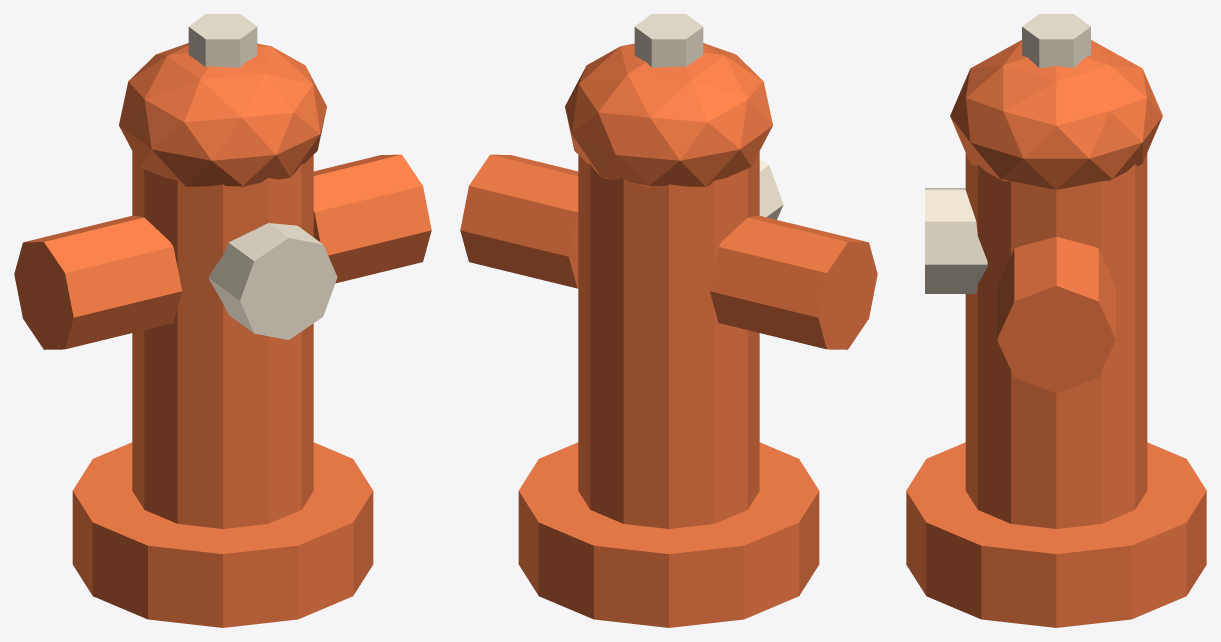
The model's file is hydrant.glb.
3 renders of one model, left to right at view 1: azimuth 30°, elevation 25°; view 2: azimuth 150°, elevation 25°; view 3: azimuth 270°, elevation 25°, orthographic.
Parts seen in each view (by area): view 1: hydrant__Barrel, hydrant__Foot, hydrant__Cap, hydrant__Outlet, hydrant__Outlet.001, hydrant__Front cap, hydrant__Top nut; view 2: hydrant__Barrel, hydrant__Foot, hydrant__Cap, hydrant__Outlet, hydrant__Outlet.001, hydrant__Top nut, hydrant__Front cap; view 3: hydrant__Barrel, hydrant__Foot, hydrant__Cap, hydrant__Outlet.001, hydrant__Front cap, hydrant__Top nut.
Boxes of the visible parts, box(x1,y1,x2,y2) form: hydrant__Barrel: box(132, 151, 313, 528); hydrant__Foot: box(72, 442, 373, 627); hydrant__Cap: box(119, 43, 326, 187); hydrant__Outlet: box(14, 216, 181, 349); hydrant__Outlet.001: box(313, 154, 431, 283); hydrant__Front cap: box(208, 223, 337, 339); hydrant__Top nut: box(188, 14, 257, 67); hydrant__Barrel: box(578, 151, 759, 528); hydrant__Foot: box(518, 442, 819, 627); hydrant__Cap: box(565, 43, 772, 187); hydrant__Outlet: box(710, 216, 877, 349); hydrant__Outlet.001: box(460, 154, 578, 288); hydrant__Top nut: box(634, 14, 703, 67); hydrant__Front cap: box(759, 159, 783, 219); hydrant__Barrel: box(965, 153, 1147, 528); hydrant__Foot: box(906, 442, 1206, 627); hydrant__Cap: box(950, 40, 1162, 189); hydrant__Outlet.001: box(997, 236, 1115, 393); hydrant__Front cap: box(925, 188, 987, 293); hydrant__Top nut: box(1022, 14, 1090, 67).
Size of the model in its own units: 0.132 by 0.1895 by 0.096.
